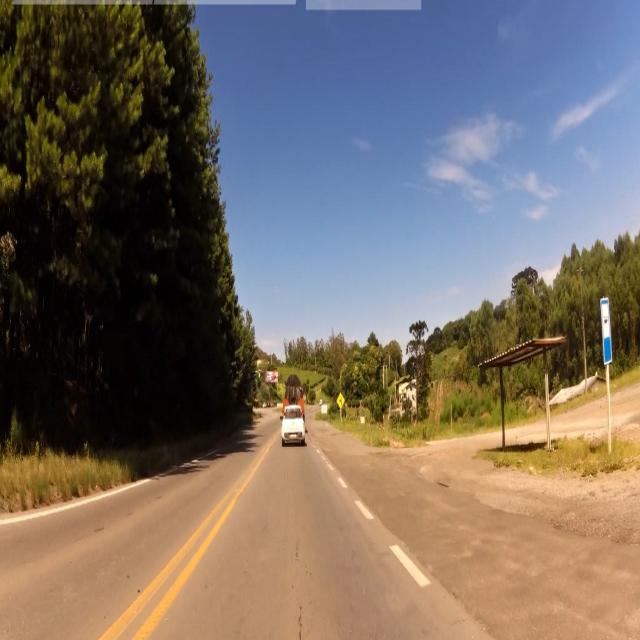S-14: (601, 298, 614, 368)
